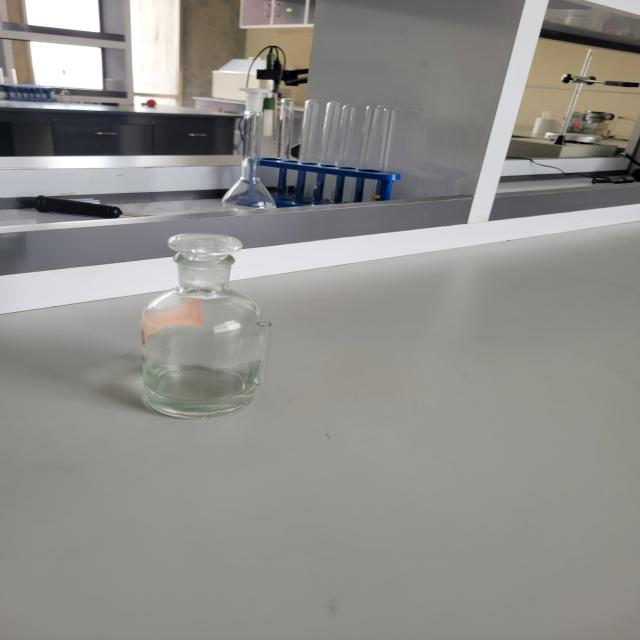Reagent_Bottle: (110, 213, 324, 471)
